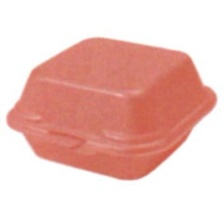foam_box: (1, 28, 221, 184)
